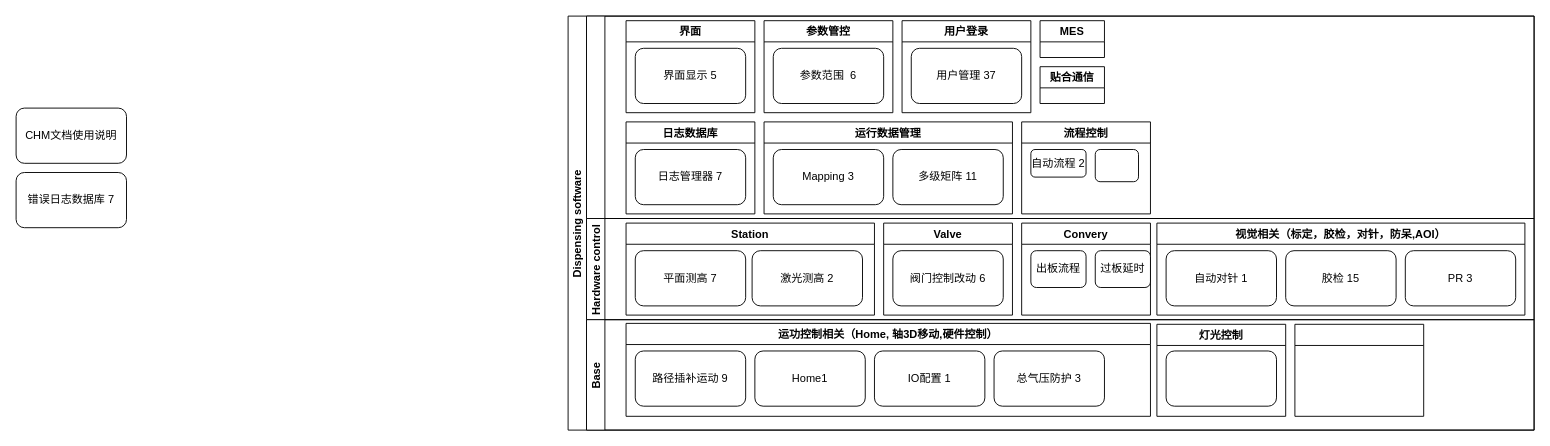
Image size: 1550x446. Some labels were removed from this diagram. The centre of each missing label's shape, as x and y in pixels:
"Software control" belongs at [1060,116].
"光照参数 3" belongs at [1220,378].
"相机控制" belongs at [1359,369].
"过度速度 3" belongs at [1116,165].
